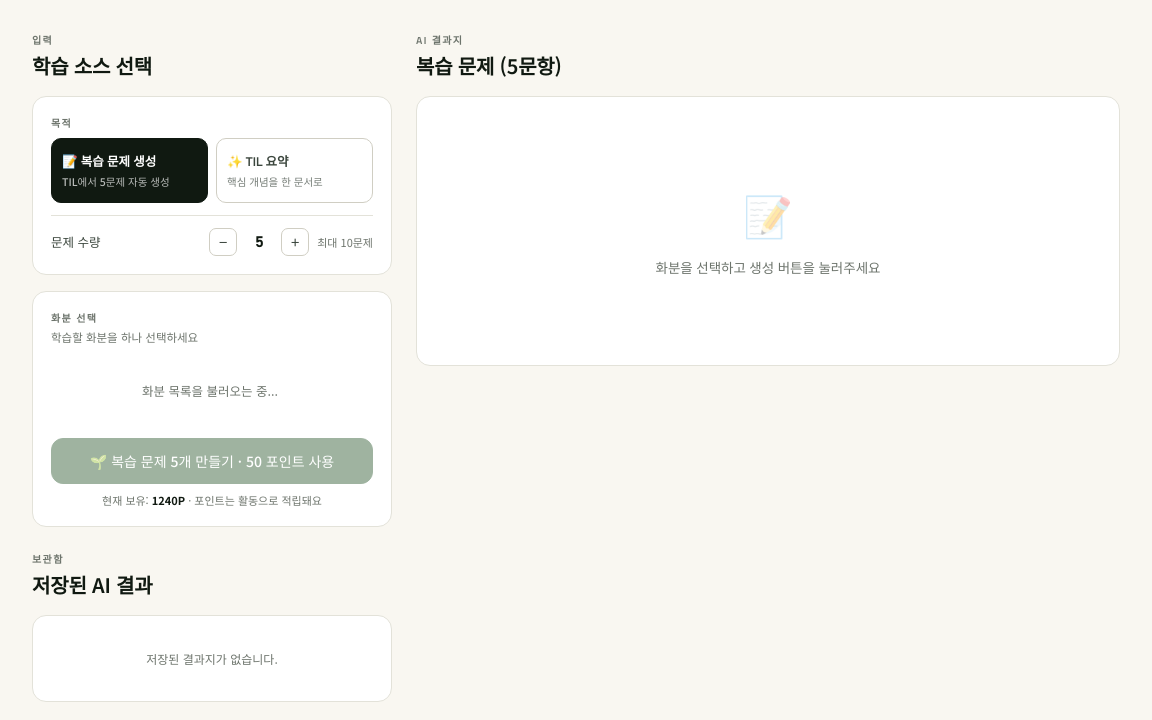
Scenario: 복습 문제 수량 스텝퍼 › summary 모드에서는 수량 스텝퍼가 표시되지 않는다
Click the button "✨ TIL 요약 핵심 개념을 한 문서로".
click(294, 170)  # box [216,138,373,203]
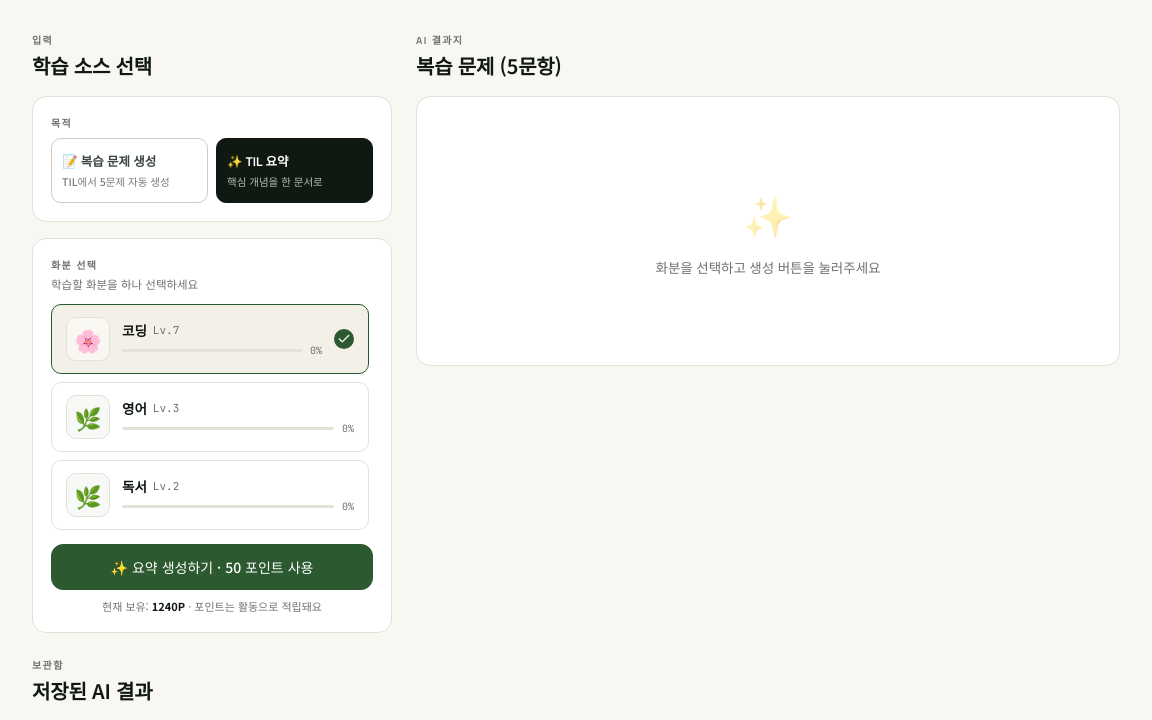
Result: the text "문제 수량" is gone
